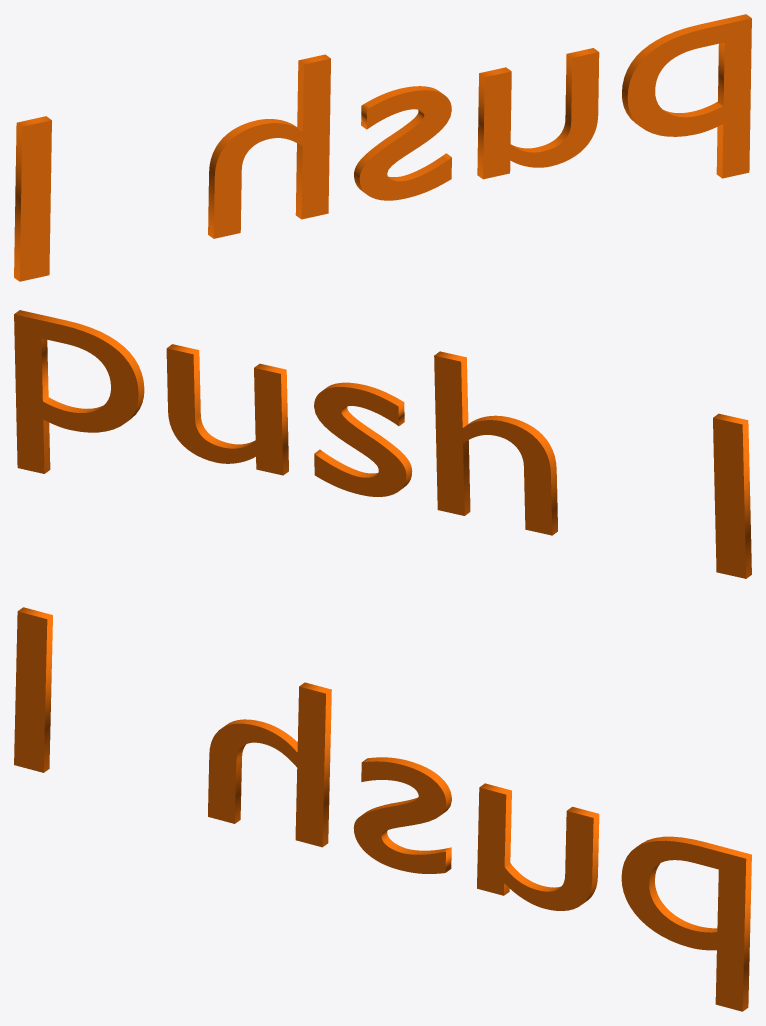
File: push_1.obj
3 renders of one model, top to bottom at view 1: azimuth 30°, elevation 25°; view 2: azimuth 150°, elevation 25°; view 3: azimuth 330°, elevation 25°, orthographic.
Visible parts, largest first — view 1: テキスト.002; view 2: テキスト.002; view 3: テキスト.002.
Part boxes in pixels (<box>): テキスト.002: <box>14,14,751,281</box>; テキスト.002: <box>14,310,751,578</box>; テキスト.002: <box>14,607,751,1011</box>.
Bounding box in the file's own units: 8.82 × 2.55 × 0.1532.
